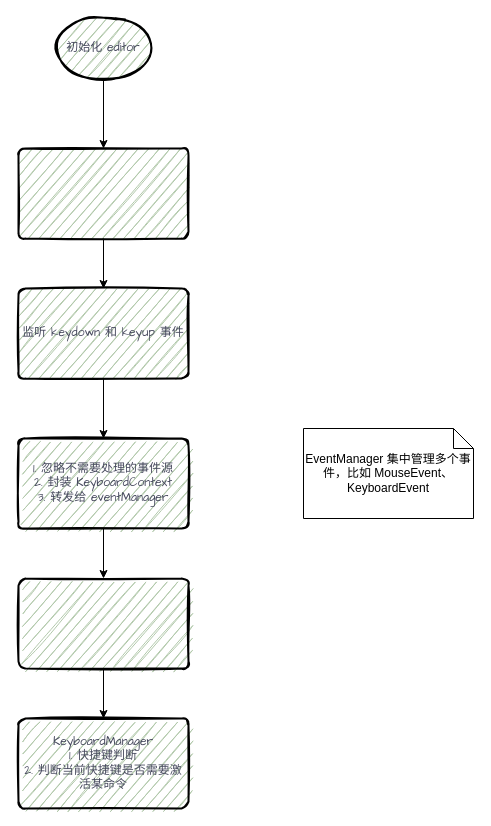
The diagram is 491 pixels wide and 826 high, and some of its shapes have lost their labels. The centre of each missing label's shape, as x and y in pixels:
EventManager 根据事件类型，比如 Keyboard 事件，则转发给 KeyboardManager: the point at 103,623
配置不拦截的按键、屏蔽浏览器处理的按键: the point at 103,193
